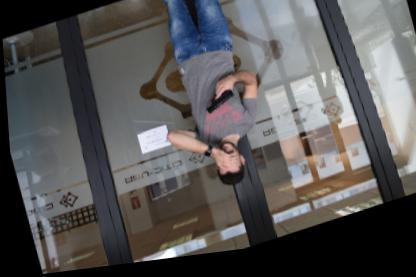pistol: (200, 92, 234, 118)
